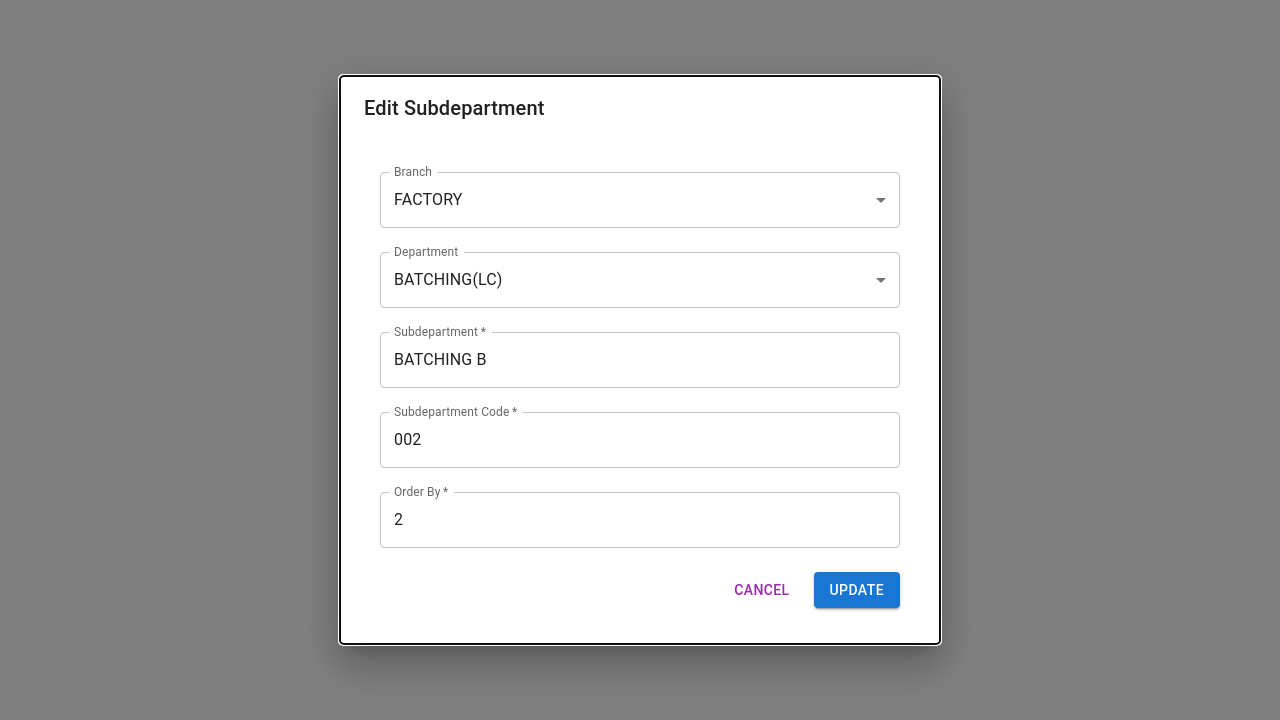
CreateSubDepartmentPage duplicate validation › still flags a code changed into an existing one
Replace the text in the field labelled "Subdepartment Code *" with "003" at coordinates (640, 440), box [380, 412, 900, 468]
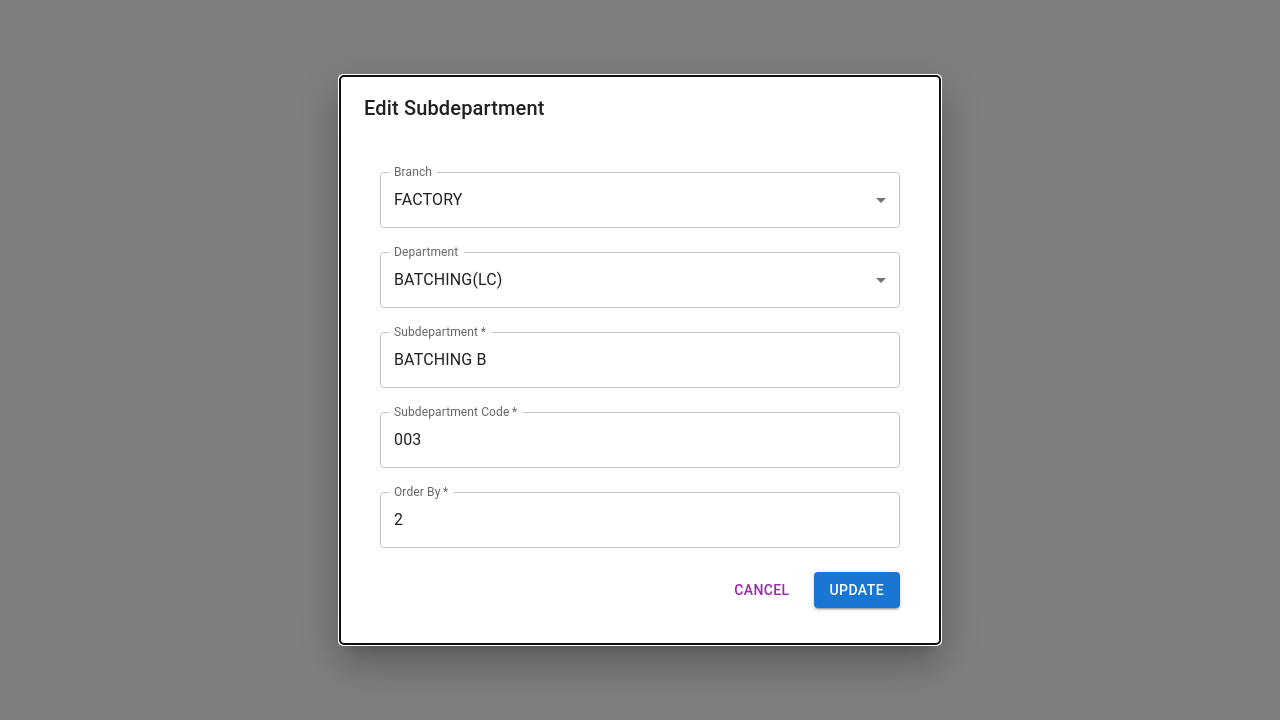
Leave the field labelled "Subdepartment Code *", box [380, 412, 900, 468]
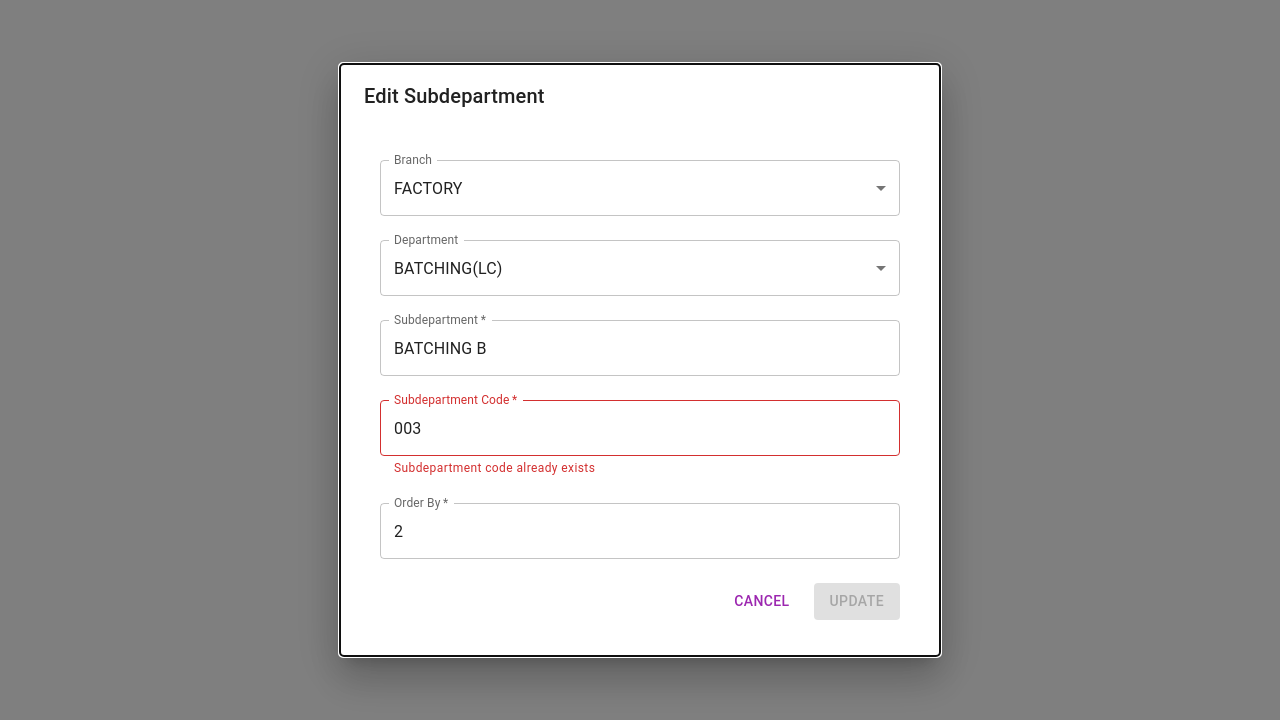
Check: the text "Subdepartment code already exists" is shown, box [394, 461, 595, 475]
